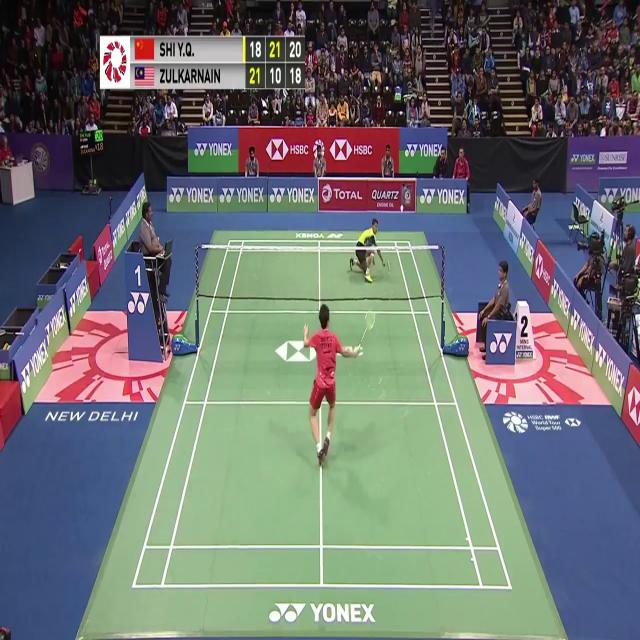Shuttlecock: (398, 204, 404, 216)
